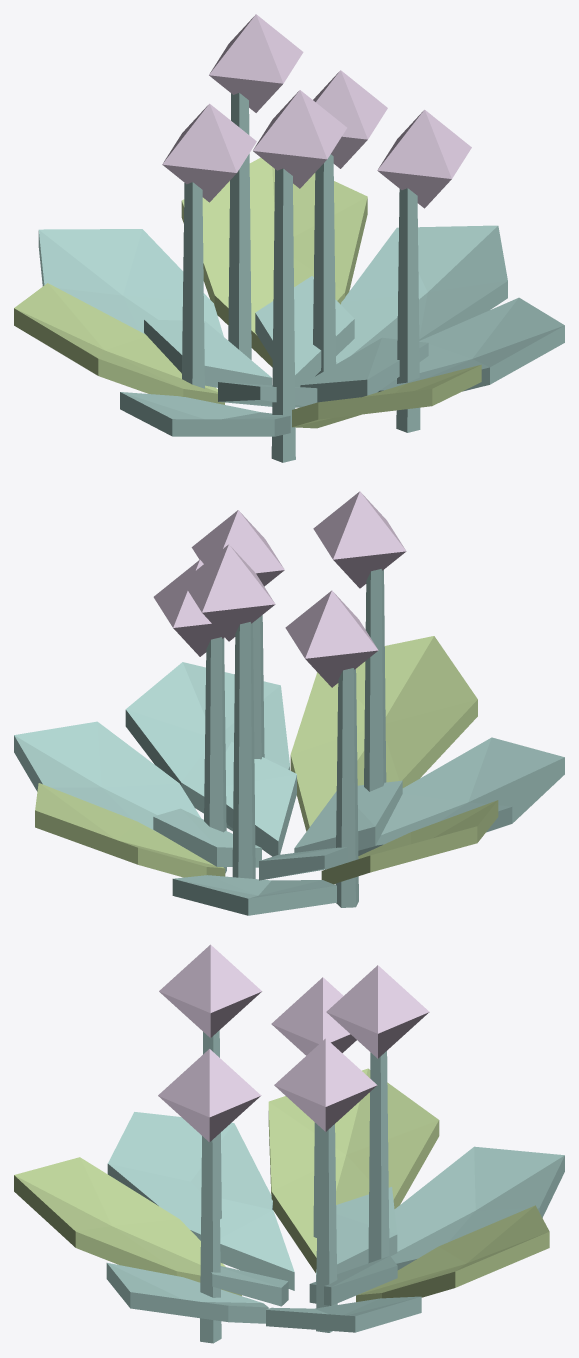
File: world_wild_herbs.fbx
3 renders of one model, top to bottom at view 1: azimuth 30°, elevation 25°; view 2: azimuth 150°, elevation 25°; view 3: azimuth 270°, elevation 25°, orthographic. The views are drawn at different scales.
Visible parts, largest first — view 1: world_wild_herbs_mesh; view 2: world_wild_herbs_mesh; view 3: world_wild_herbs_mesh.
Boxes of the visible parts, <box> form: world_wild_herbs_mesh: <box>14,14,564,462</box>; world_wild_herbs_mesh: <box>14,491,564,915</box>; world_wild_herbs_mesh: <box>14,944,564,1343</box>.
Size of the model in its own units: 0.6043 by 0.44 by 0.6383.
